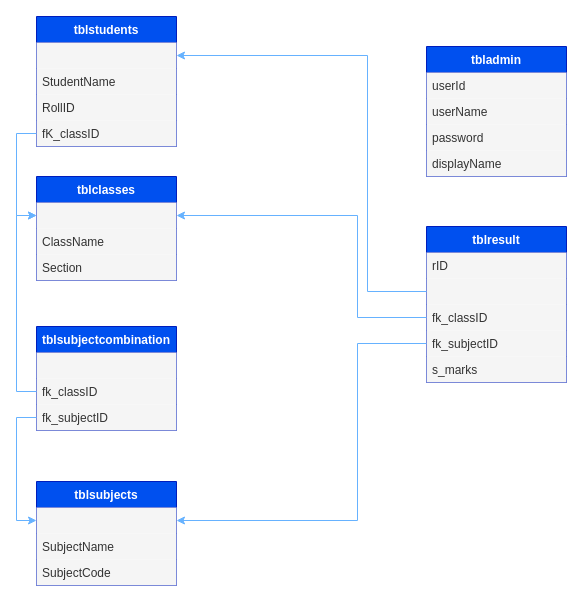
Image size: 583x602. Some labels were removed from this diagram. Here are the shapes that lost their labels. From the top down, the centre of each, then its label:
pixel 106 55: StudentID
pixel 106 215: ClassID
pixel 496 291: fk_studentID
pixel 106 365: ID
pixel 106 520: SubjectID
